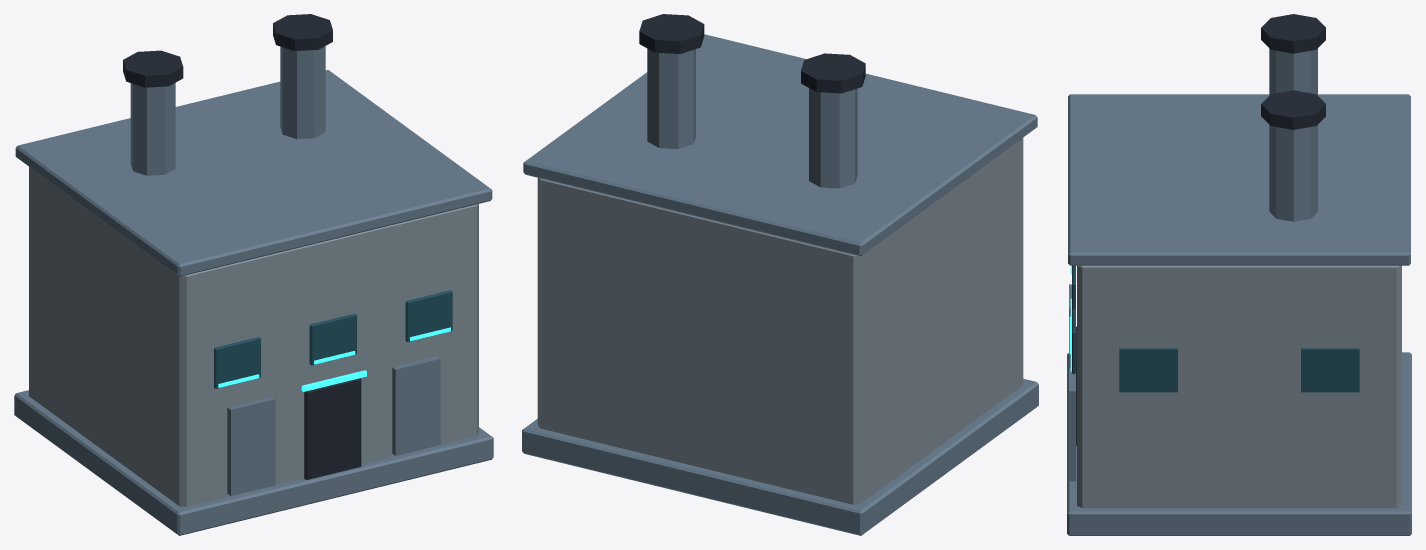
The model's file is SM_ENV_Building_004_Industrial.glb.
3 views of the same model, side by side, from view 1: azimuth 30°, elevation 25°; view 2: azimuth 150°, elevation 25°; view 3: azimuth 270°, elevation 25° (orthographic). The views are drawn at different scales.
Parts seen in each view (by area): view 1: SM_ENV_Building_004_Industrial; view 2: SM_ENV_Building_004_Industrial; view 3: SM_ENV_Building_004_Industrial.
Boxes of the visible parts, bbox=[...] form: SM_ENV_Building_004_Industrial: bbox=[14, 14, 493, 535]; SM_ENV_Building_004_Industrial: bbox=[522, 14, 1038, 535]; SM_ENV_Building_004_Industrial: bbox=[1067, 14, 1411, 535].
Bounding box in the file's own units: 4.22 × 4.77 × 3.82.
